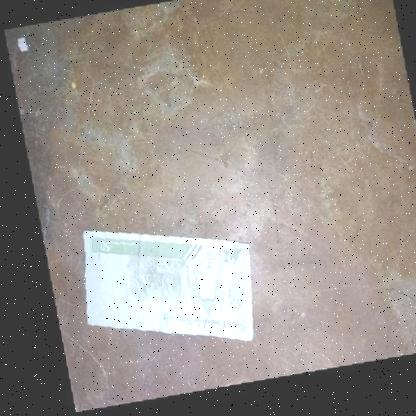vef_back: (70, 218, 252, 358)
